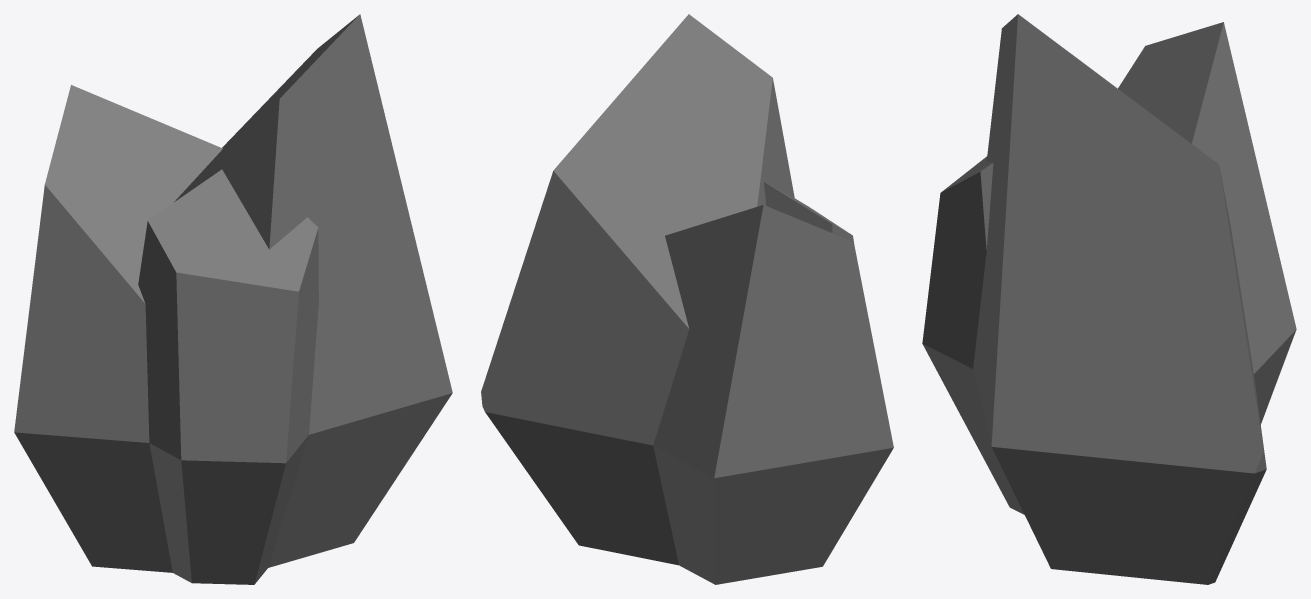
Rendered from Crystal_Pedal.fbx.
The picture shows the model from 3 angles, left to right: view 1: azimuth 30°, elevation 25°; view 2: azimuth 150°, elevation 25°; view 3: azimuth 270°, elevation 25°; orthographic projection. The views are drawn at different scales.
Parts seen in each view (by area): view 1: Crystal_Pedal; view 2: Crystal_Pedal; view 3: Crystal_Pedal.
Boxes of the visible parts, x1,y1,x2,y2 form: Crystal_Pedal: (14, 14, 452, 584); Crystal_Pedal: (481, 14, 893, 584); Crystal_Pedal: (922, 14, 1296, 584).
Size of the model in its own units: 222 by 281 by 172.
